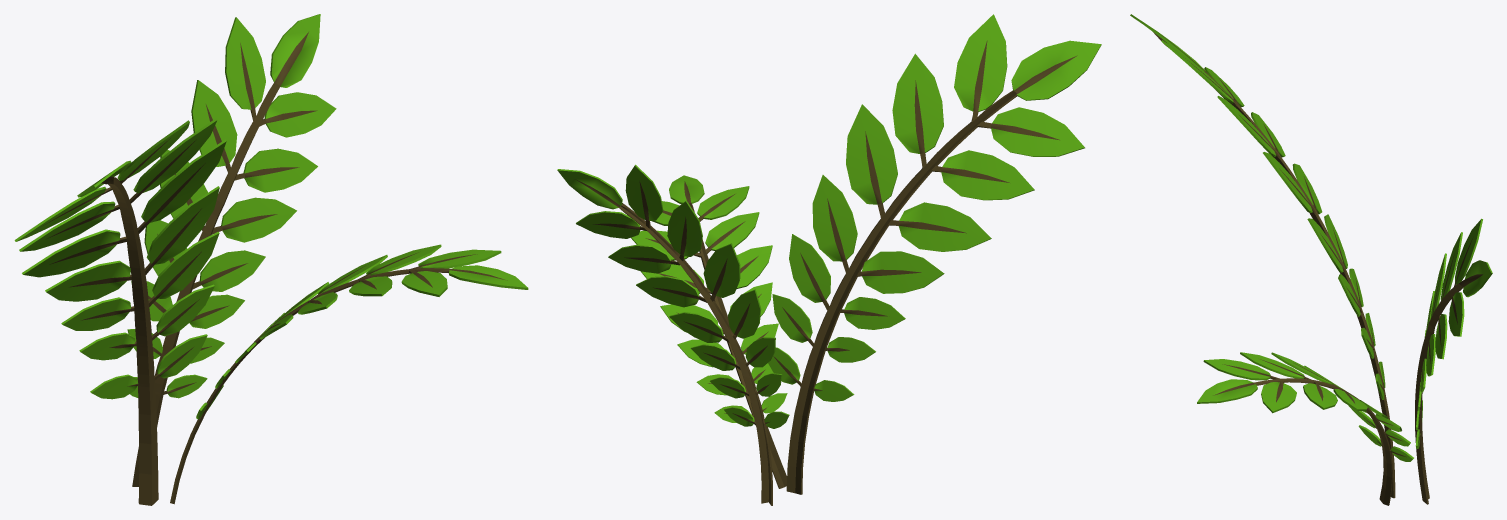
File: Plant01.FBX
The picture shows the model from 3 angles, left to right: view 1: azimuth 30°, elevation 25°; view 2: azimuth 150°, elevation 25°; view 3: azimuth 270°, elevation 25°; orthographic projection. The views are drawn at different scales.
Parts seen in each view (by area): view 1: Plane157; view 2: Plane157; view 3: Plane157.
Boxes of the visible parts, box(x1,y1,x2,y2) form: Plane157: box(14, 14, 528, 505); Plane157: box(557, 14, 1101, 505); Plane157: box(1130, 14, 1492, 505).
Size of the model in its own units: 76.25 by 71.52 by 56.48.
